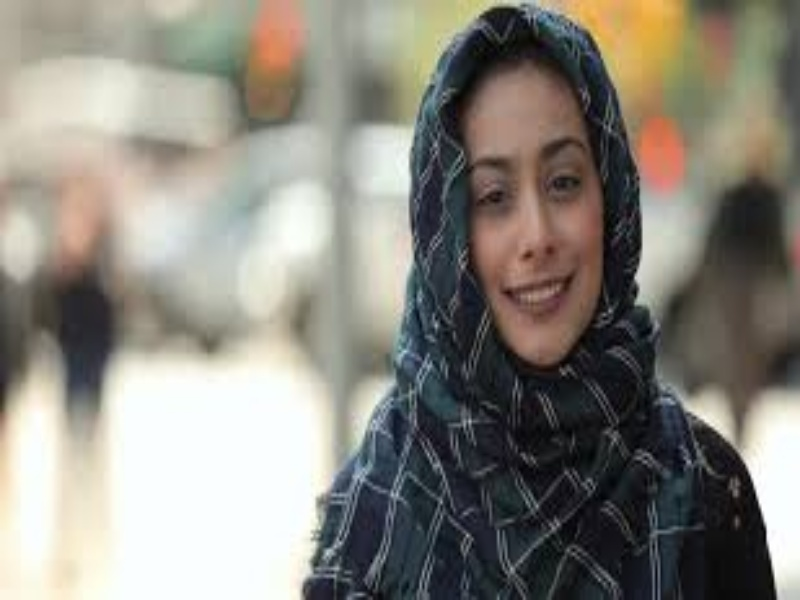face: (462, 113, 600, 338)
